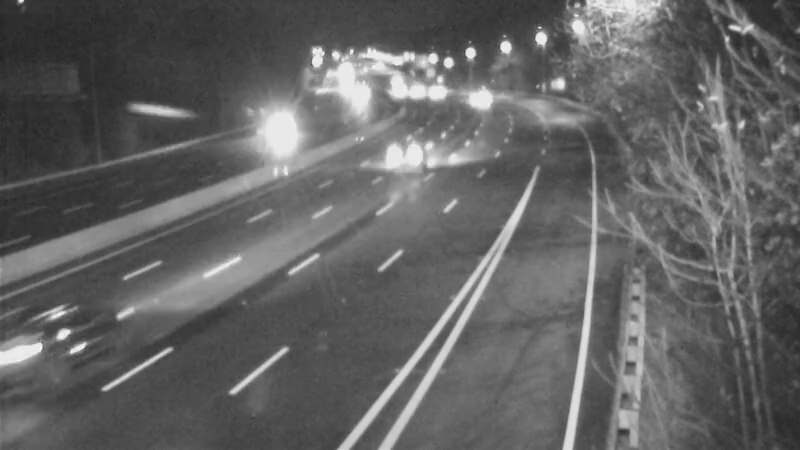vehicle: (1, 292, 92, 402), (393, 67, 443, 117), (374, 69, 424, 119), (406, 66, 456, 116), (446, 77, 496, 127), (380, 125, 430, 175), (259, 103, 309, 153), (335, 71, 385, 121)
